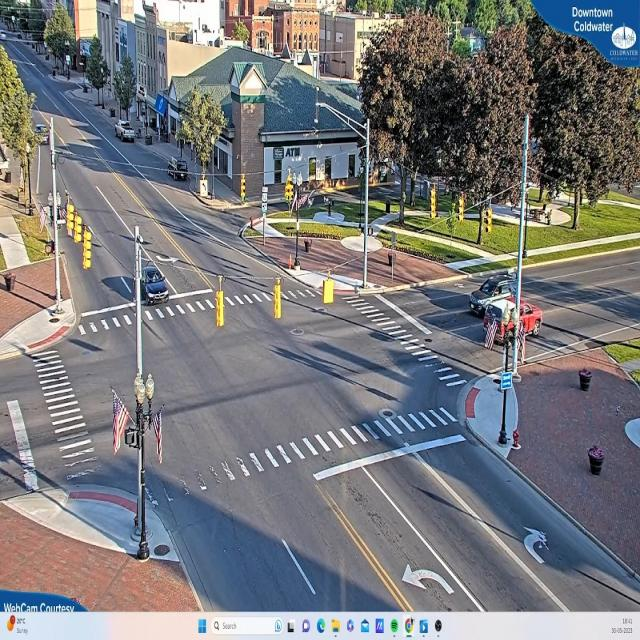car: (484, 298, 544, 343), (139, 270, 167, 304), (117, 122, 137, 144)
